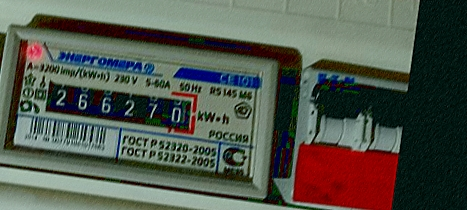0: (167, 103, 181, 125)
2: (52, 86, 68, 108), (121, 97, 135, 119)
6: (74, 91, 89, 112), (98, 94, 113, 114)
7: (144, 100, 158, 121)
screen: (29, 66, 208, 145)
